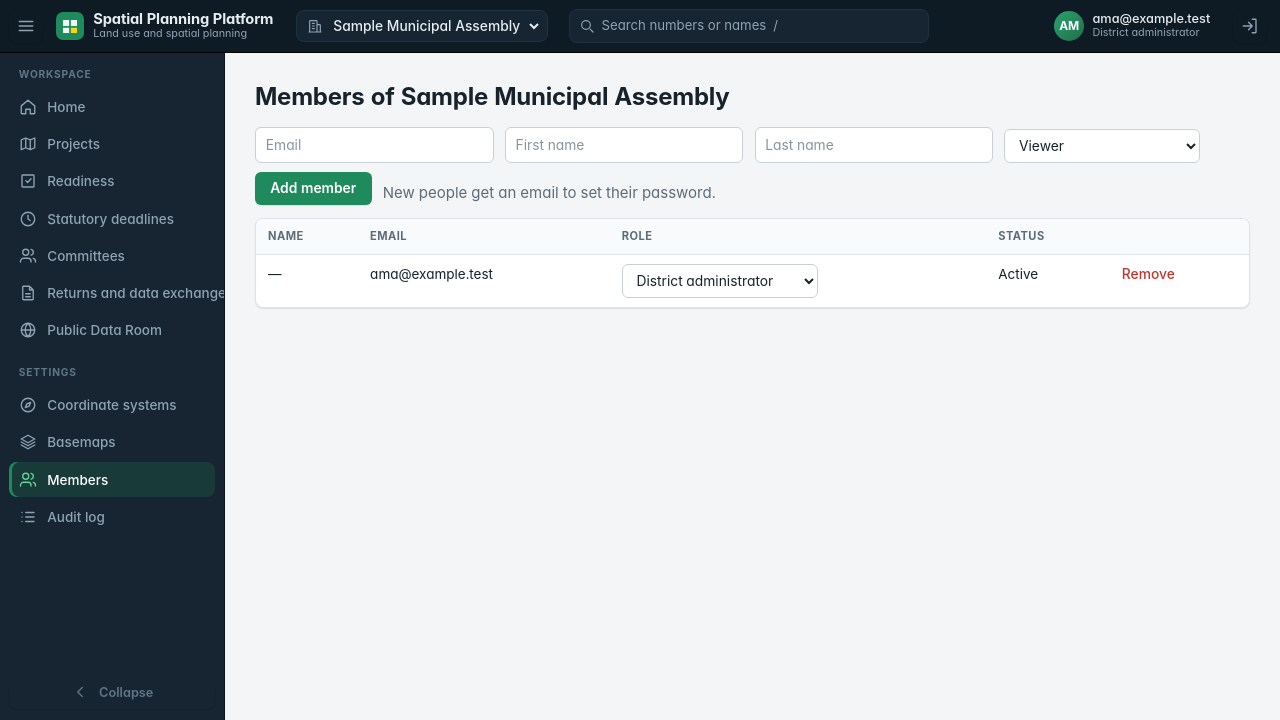
Scenario: members page › adds a member and clears the form
Type "kofi@example.test" into the field labelled "Email".
click(374, 145); type("kofi@example.test")  # box [255, 127, 494, 163]
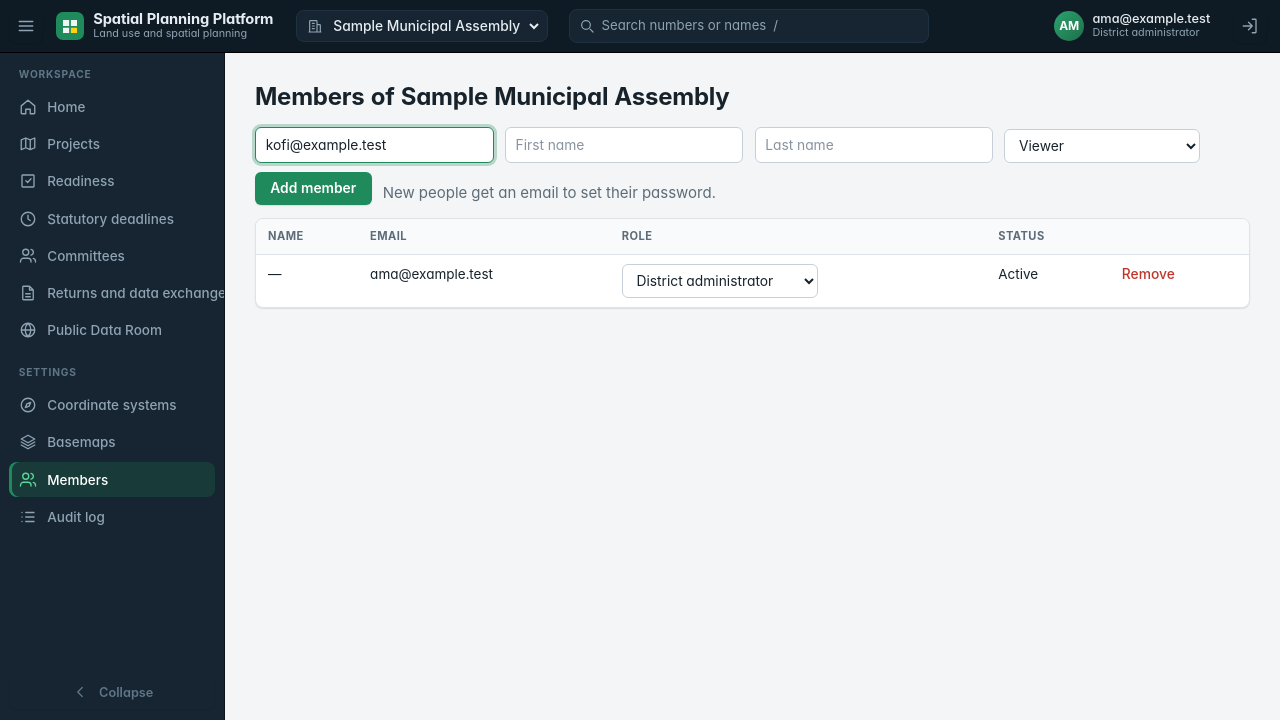
Select "Physical planner" in the dropdown named "Role" at coordinates (1102, 146), box [1004, 129, 1200, 163]
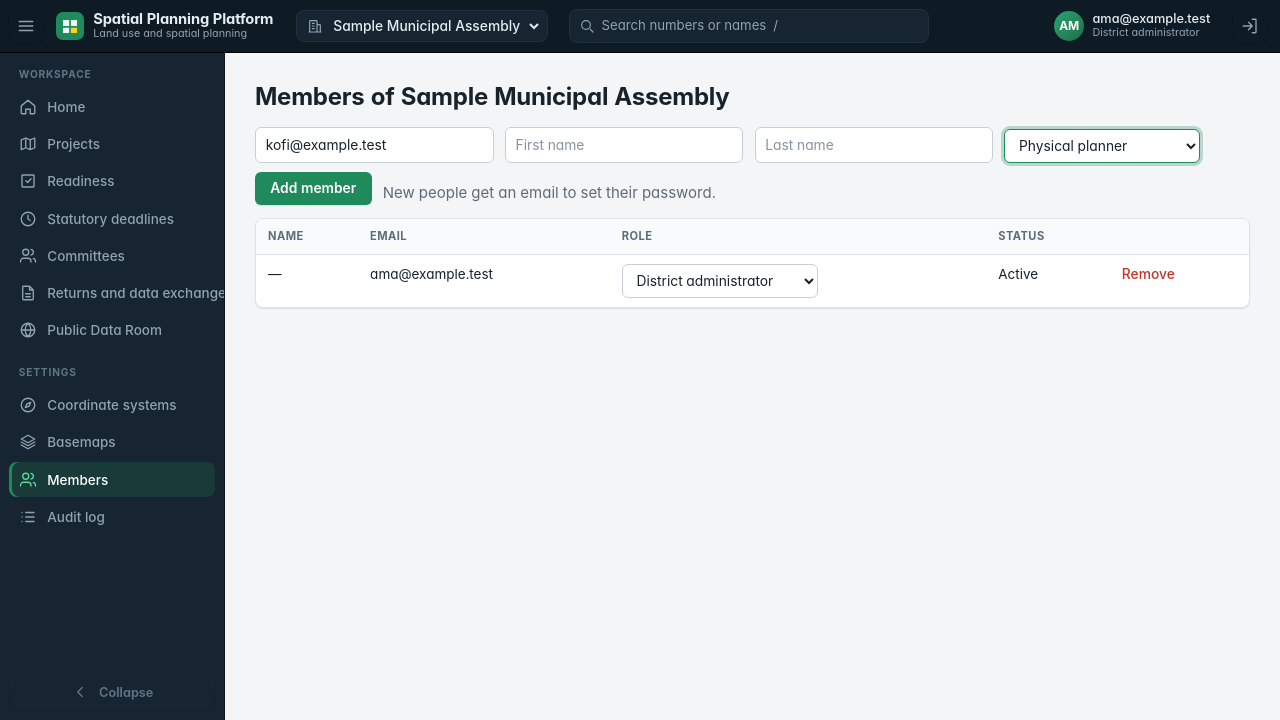
Click the button "Add member".
click(313, 188)  # box [255, 172, 372, 205]
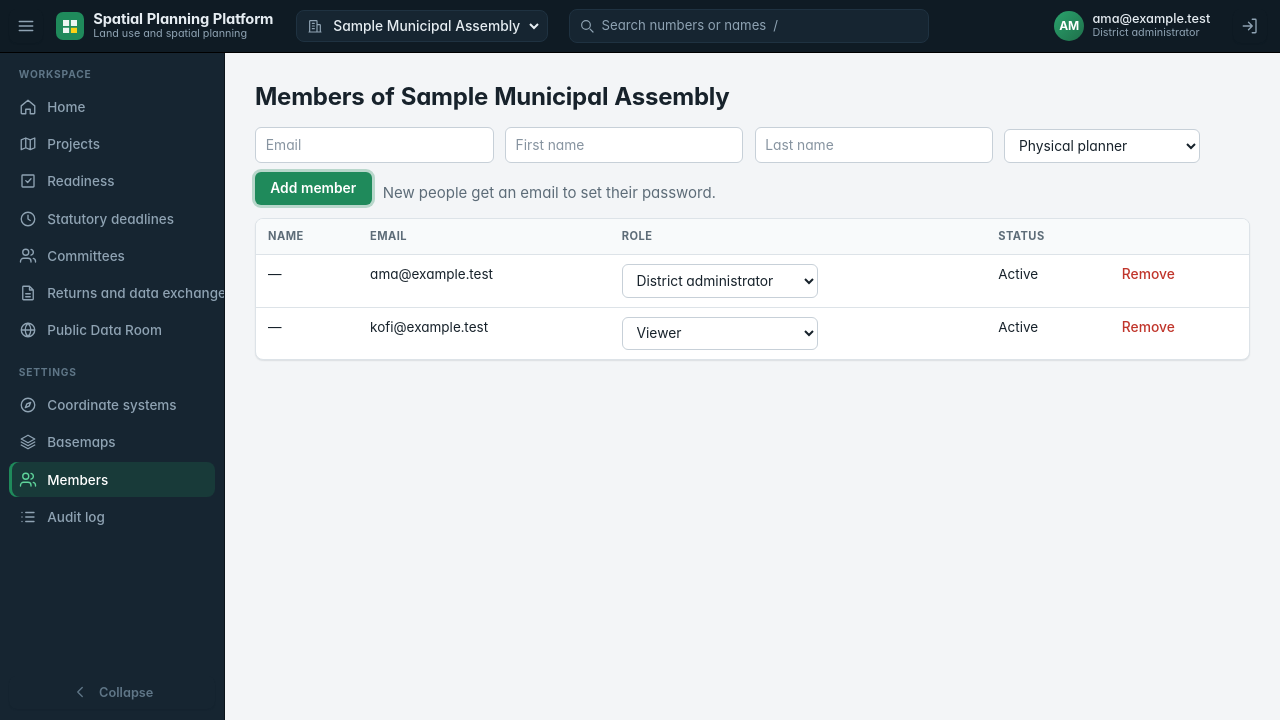
Expected: the text "kofi@example.test" is shown, [358, 308, 610, 359]
Expected: the field labelled "Email" is empty, [255, 127, 494, 163]
